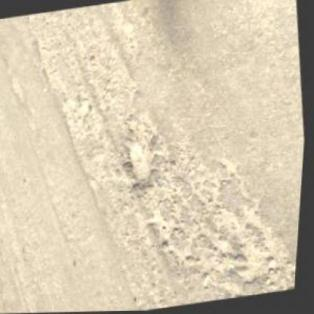Hueco: (122, 138, 157, 190)
